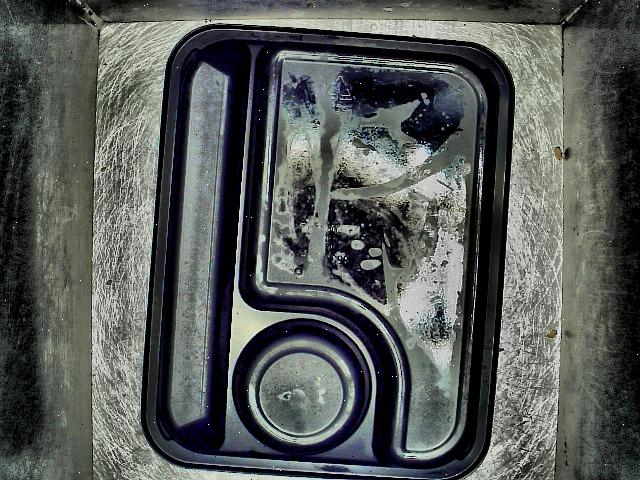Plastic: (133, 19, 518, 480)
